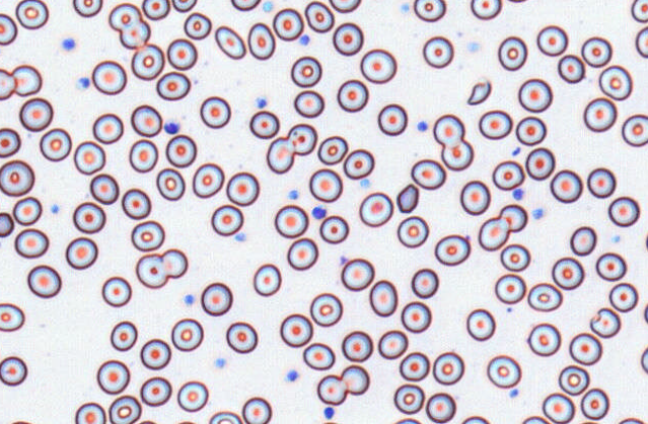PLT: (73, 74, 91, 93), (311, 203, 329, 220), (60, 37, 77, 53), (164, 119, 181, 135), (285, 367, 302, 383), (321, 405, 338, 421), (512, 187, 527, 203), (255, 95, 270, 110), (531, 207, 545, 221), (299, 32, 311, 48), (234, 230, 247, 243), (288, 187, 300, 201), (416, 119, 428, 132), (183, 293, 195, 306), (49, 202, 60, 215), (213, 357, 226, 368), (509, 388, 519, 399)
RBC: (360, 48, 396, 83), (358, 191, 393, 227), (130, 43, 164, 80), (0, 159, 34, 196), (91, 60, 126, 95), (598, 64, 632, 100), (583, 96, 617, 132), (96, 359, 130, 394), (486, 354, 521, 388), (517, 78, 552, 112), (27, 264, 61, 298), (308, 168, 342, 202), (526, 322, 560, 356), (279, 313, 313, 347), (274, 204, 308, 238), (19, 97, 53, 131), (340, 257, 374, 291), (135, 253, 168, 288), (226, 171, 259, 206), (192, 162, 224, 198), (434, 234, 470, 266), (568, 332, 602, 365), (170, 317, 203, 351), (551, 256, 584, 290), (549, 169, 582, 203), (309, 292, 342, 326), (73, 140, 105, 175), (410, 158, 446, 189), (214, 25, 246, 59), (200, 282, 232, 316), (432, 351, 464, 385), (39, 127, 71, 161), (459, 180, 490, 215), (497, 35, 527, 71), (368, 279, 397, 316), (247, 22, 275, 60), (441, 138, 473, 171), (65, 236, 97, 269), (210, 204, 243, 236), (396, 215, 428, 248), (286, 237, 318, 270), (72, 201, 105, 233), (130, 104, 162, 137), (336, 79, 368, 112), (130, 220, 164, 251), (478, 217, 509, 251), (14, 227, 48, 258), (272, 7, 303, 41), (266, 136, 294, 173), (176, 380, 208, 412), (225, 321, 257, 353), (536, 24, 568, 56), (433, 113, 464, 146), (541, 392, 574, 423), (400, 300, 431, 333), (524, 147, 555, 180), (607, 196, 640, 227), (422, 35, 453, 68), (332, 22, 363, 55), (199, 95, 230, 128), (165, 134, 196, 167), (128, 138, 158, 172), (478, 109, 512, 139), (527, 282, 562, 311), (11, 64, 42, 96), (494, 273, 526, 304), (166, 38, 197, 70), (140, 338, 171, 370), (341, 330, 372, 362), (92, 112, 123, 144), (290, 55, 321, 87), (155, 167, 185, 200), (304, 0, 334, 33), (108, 2, 142, 31), (156, 71, 190, 100), (558, 364, 589, 395), (316, 374, 347, 405), (393, 383, 424, 414), (425, 392, 456, 423), (343, 148, 374, 179), (581, 36, 612, 67), (287, 123, 317, 155), (139, 376, 171, 406), (121, 187, 151, 219), (492, 160, 524, 190), (377, 103, 407, 135), (15, 0, 48, 29), (108, 394, 141, 423), (580, 387, 609, 420), (252, 263, 281, 296), (466, 308, 495, 341), (119, 19, 150, 49), (101, 276, 131, 307), (398, 351, 429, 381), (89, 173, 119, 204), (317, 135, 348, 165), (586, 167, 616, 198), (515, 115, 546, 145), (302, 342, 335, 370), (608, 282, 638, 312), (377, 329, 407, 359), (340, 364, 369, 395), (595, 252, 626, 281), (293, 89, 324, 118), (621, 113, 647, 147), (12, 196, 42, 225), (319, 214, 348, 244), (249, 110, 279, 139), (410, 267, 438, 298), (498, 203, 527, 232), (500, 243, 530, 271), (0, 355, 27, 386), (110, 320, 137, 351), (569, 225, 596, 256), (557, 54, 585, 83), (241, 396, 271, 423), (183, 11, 211, 39), (161, 248, 187, 278), (413, 0, 446, 22), (0, 302, 25, 331), (74, 401, 106, 423), (470, 0, 502, 20), (0, 127, 21, 157), (141, 0, 170, 20), (0, 13, 17, 45), (72, 0, 102, 17), (0, 68, 15, 100), (208, 410, 242, 423), (328, 0, 361, 13), (635, 26, 647, 58), (0, 211, 14, 237), (631, 0, 647, 22), (230, 0, 260, 11), (171, 0, 197, 12), (521, 415, 550, 423), (461, 415, 489, 423), (640, 346, 647, 373), (617, 417, 645, 423), (393, 417, 421, 423), (643, 302, 648, 323), (137, 419, 156, 424), (577, 420, 600, 424), (11, 420, 32, 424), (176, 420, 196, 424), (321, 420, 339, 424), (506, 0, 528, 3), (645, 231, 648, 251)
Schistocyte: (591, 308, 622, 339), (465, 77, 495, 106), (397, 182, 420, 214)
